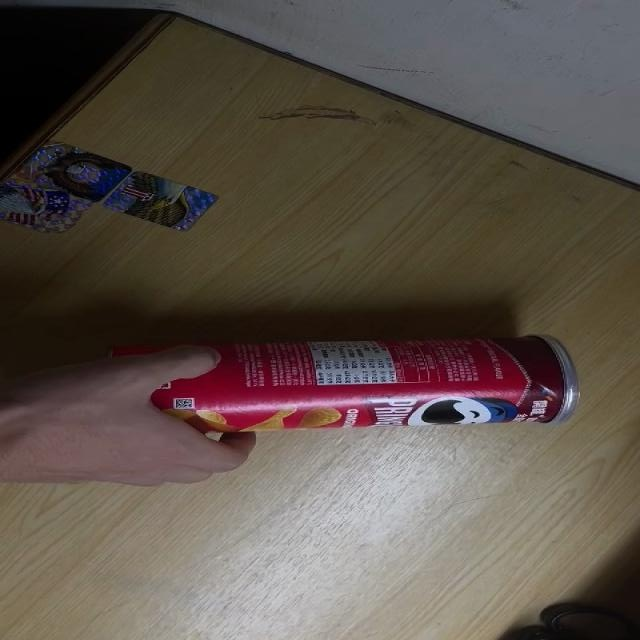Pringles: (103, 333, 581, 436)
